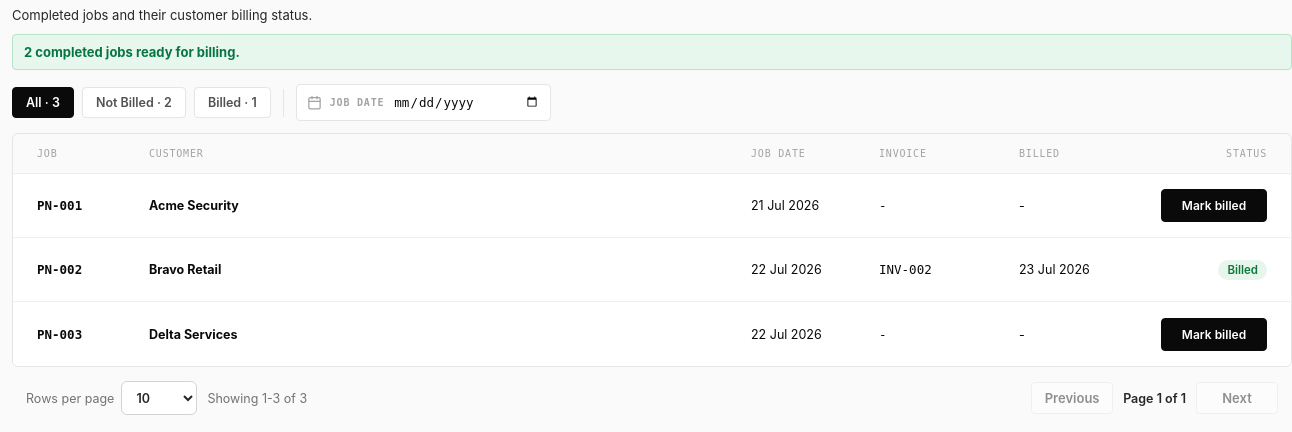
Test: BillingScreen › filters customer billing rows by job date
Type "2026-07-22" into the date field named "Filter billing by job date" at (466, 103), box left=392, top=94, right=540, bottom=111
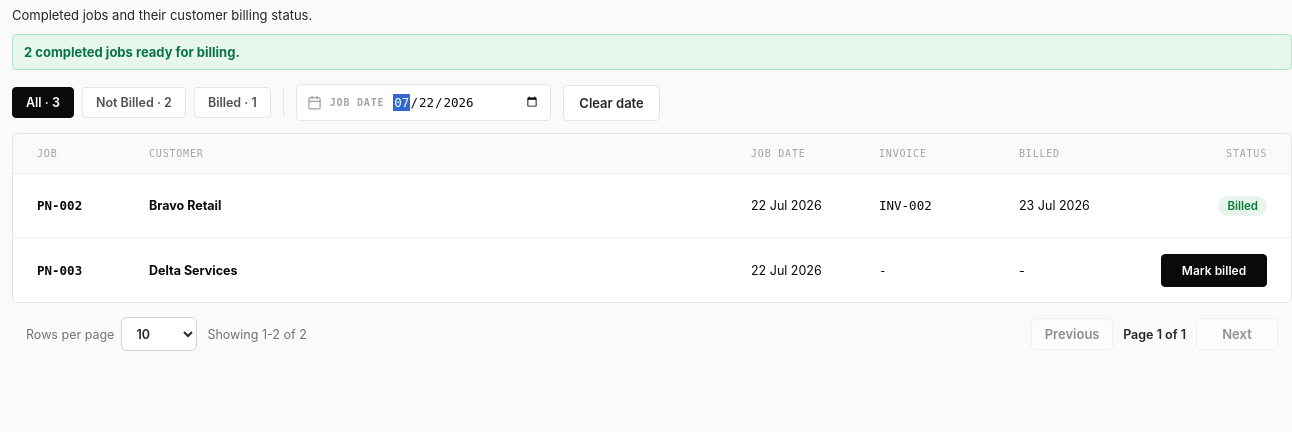
Check: the text "PN-002" is shown, box left=37, top=198, right=82, bottom=213
Check: the text "PN-001" is gone
Click the button "Clear date" at (612, 103), box left=563, top=85, right=660, bottom=121
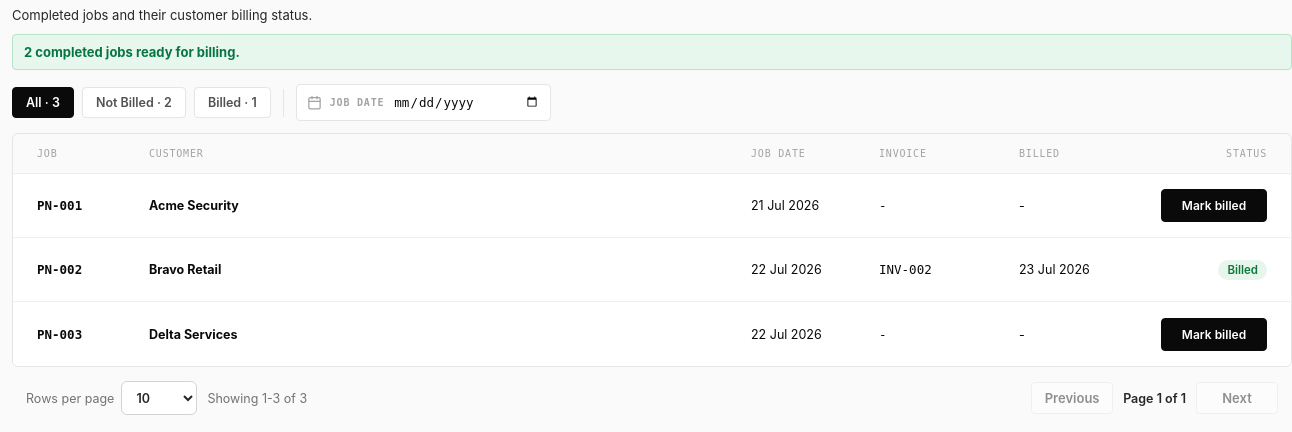
Check: the text "PN-001" is shown, box left=37, top=198, right=82, bottom=213
